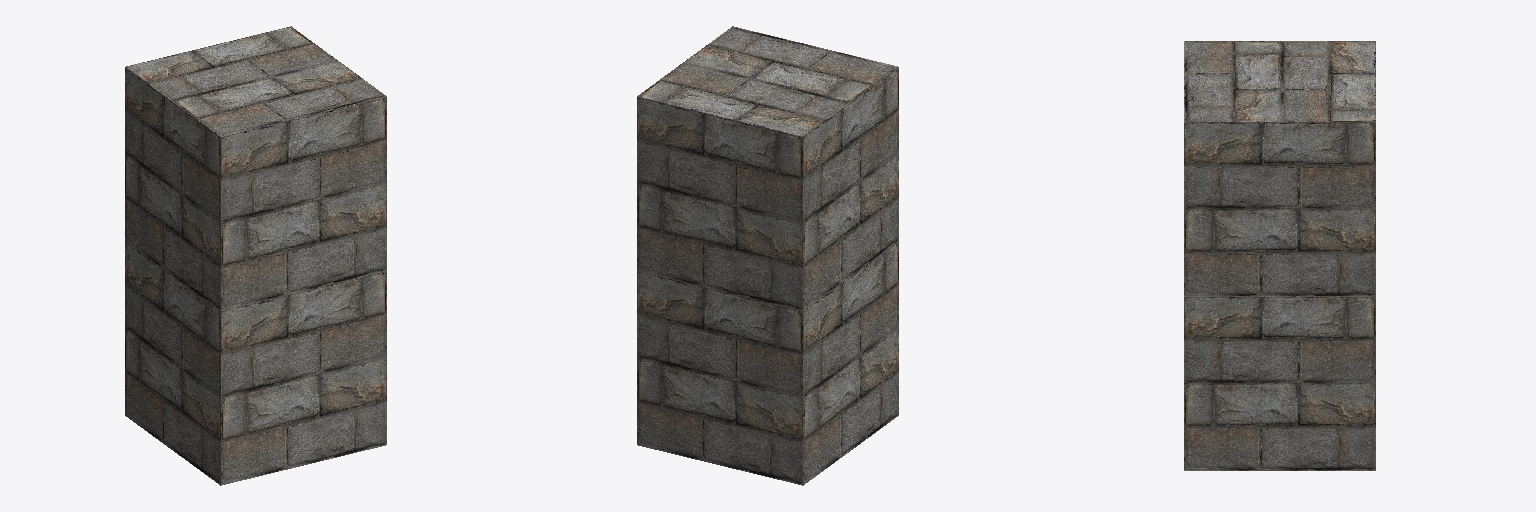
3 renders of one model, left to right at view 1: azimuth 30°, elevation 25°; view 2: azimuth 150°, elevation 25°; view 3: azimuth 270°, elevation 25°, orthographic.
Visible parts, largest first — view 1: big_column; view 2: big_column; view 3: big_column.
Boxes of the visible parts, x1,y1,x2,y2 form: big_column: [125, 26, 386, 485]; big_column: [637, 26, 898, 485]; big_column: [1184, 41, 1375, 470].
Size of the model in its own units: 15.12 by 30.25 by 15.12.
Materials: 1 (1 with a texture image).